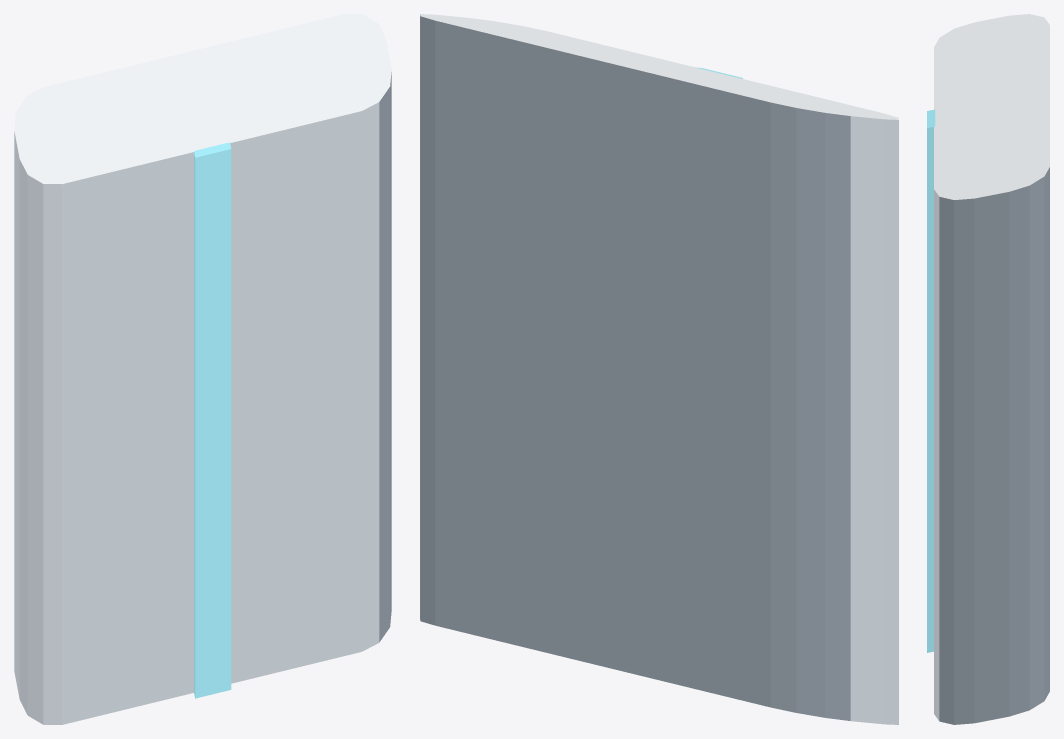
File: Door_LeafTile.gltf
3 renders of one model, left to right at view 1: azimuth 30°, elevation 25°; view 2: azimuth 150°, elevation 25°; view 3: azimuth 270°, elevation 25°, orthographic. The views are drawn at different scales.
Parts seen in each view (by area): view 1: Door_LeafTile_baked; view 2: Door_LeafTile_baked; view 3: Door_LeafTile_baked.
Part boxes in pixels (box(x1,y1,x2,y2)): Door_LeafTile_baked: box(14, 14, 391, 724); Door_LeafTile_baked: box(420, 14, 898, 724); Door_LeafTile_baked: box(927, 14, 1049, 724).
Bounding box in the file's own units: 0.7532 × 1.08 × 0.212.
